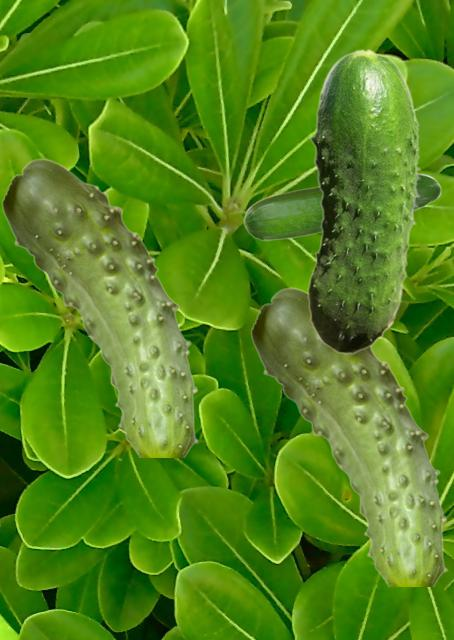cucumber: (1, 158, 198, 456), (250, 287, 447, 585), (307, 48, 420, 353), (243, 173, 440, 240)
